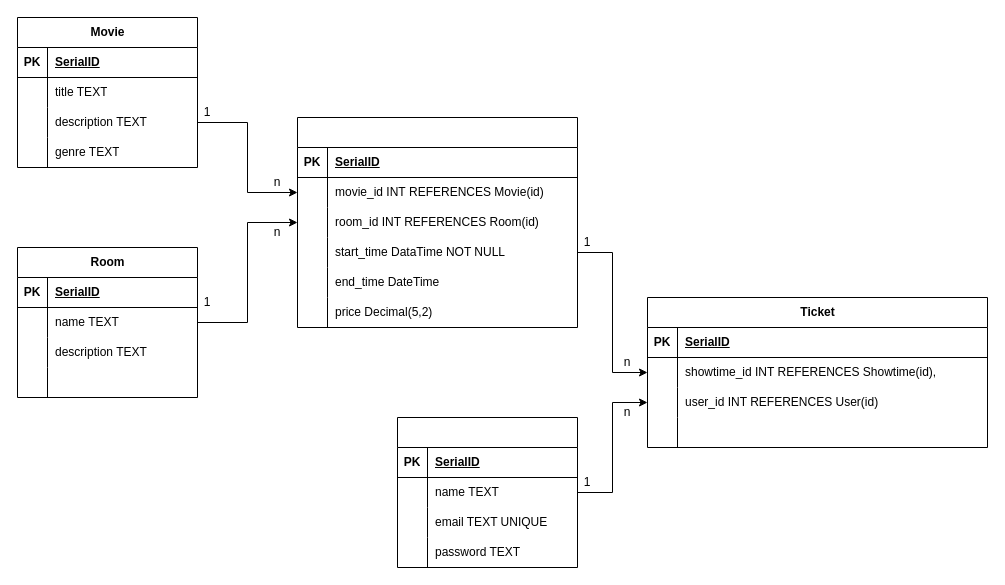
Image size: 1005x585. Some labels were removed from this diagram. Each missing label, with the box of its shape:
Show: (296, 116, 578, 328)
USER: (396, 416, 578, 568)
